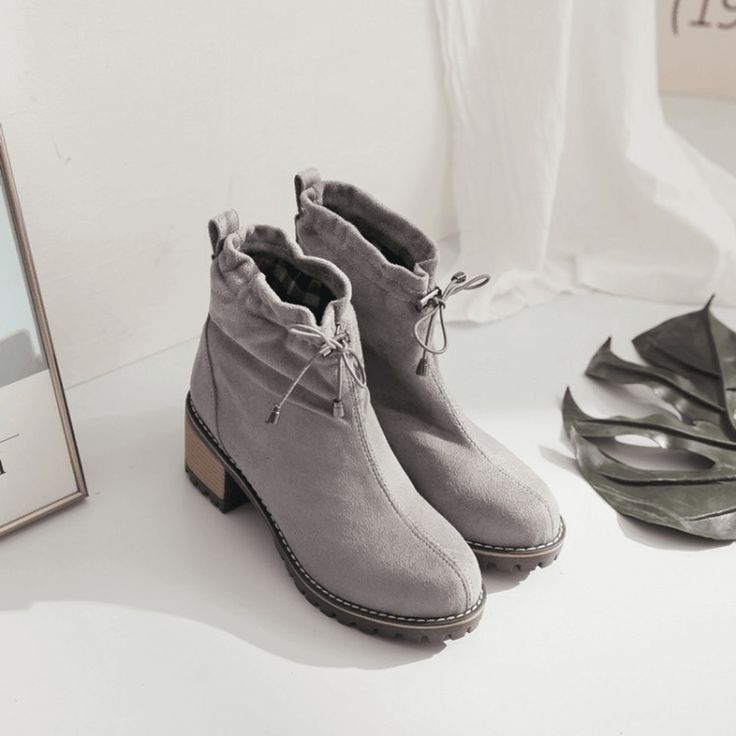gamuza: (186, 170, 563, 618)
